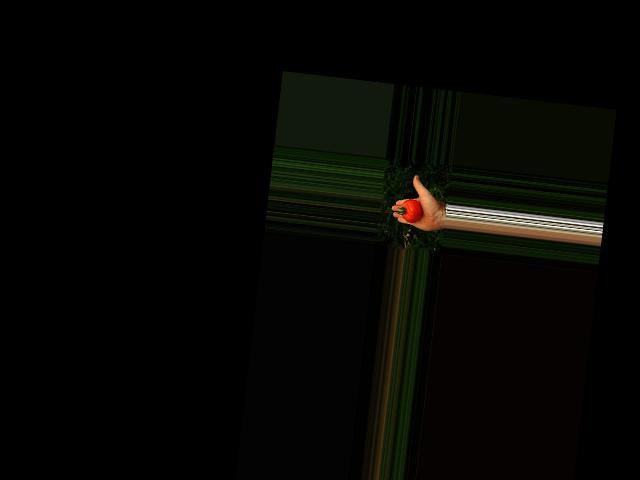tomato: (400, 198, 423, 224)
